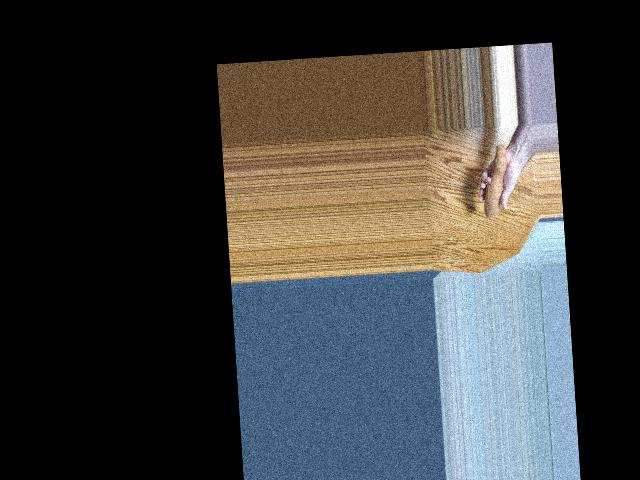sweet_potato: (480, 146, 511, 220)
